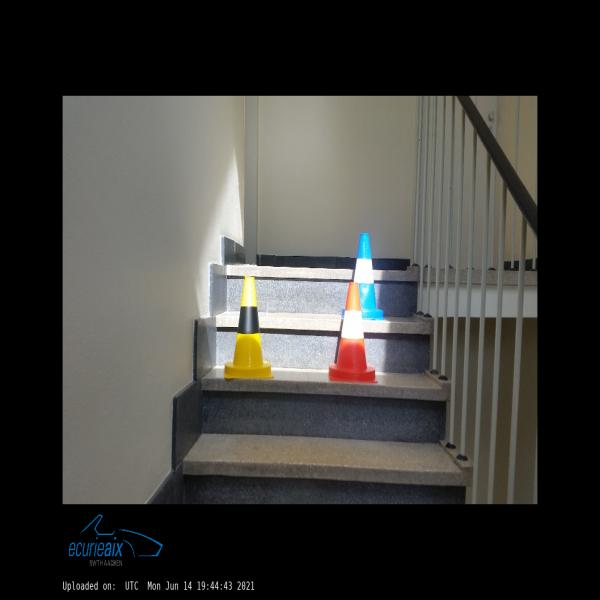blue_cone: (341, 233, 385, 320)
orange_cone: (329, 283, 378, 383)
yellow_cone: (224, 276, 274, 379)
